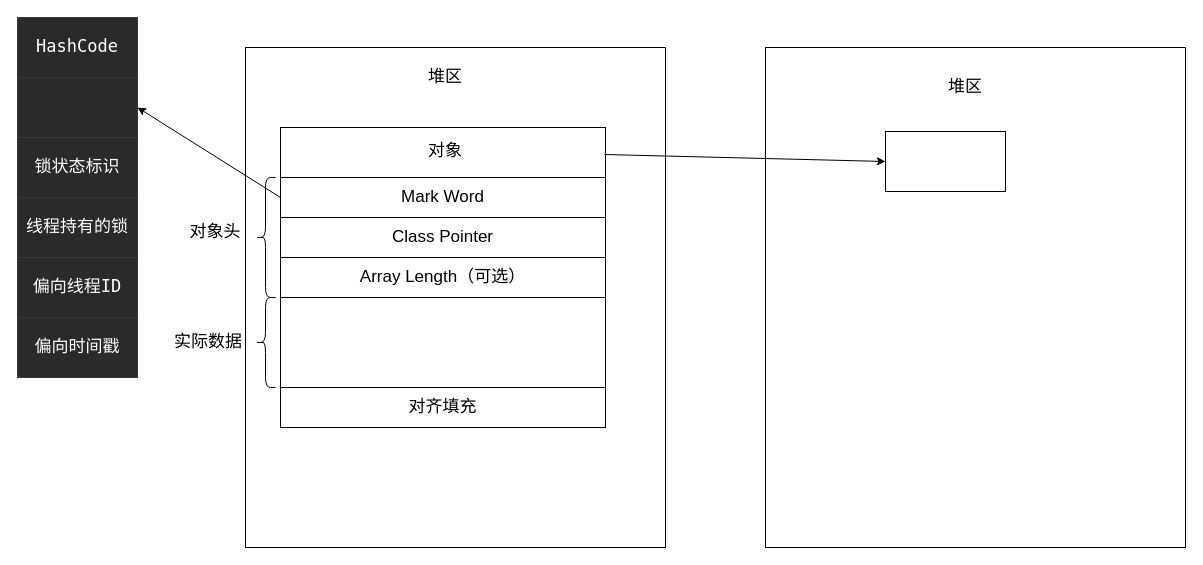
This 1203x565 diagram has some shape labels left out. Here are the shapes that lost their labels. From the top down, the box of each, then its label:
(16, 76, 138, 138): GC分代年龄
(884, 130, 1006, 192): 类的class对象
(280, 296, 606, 388): 对象体
